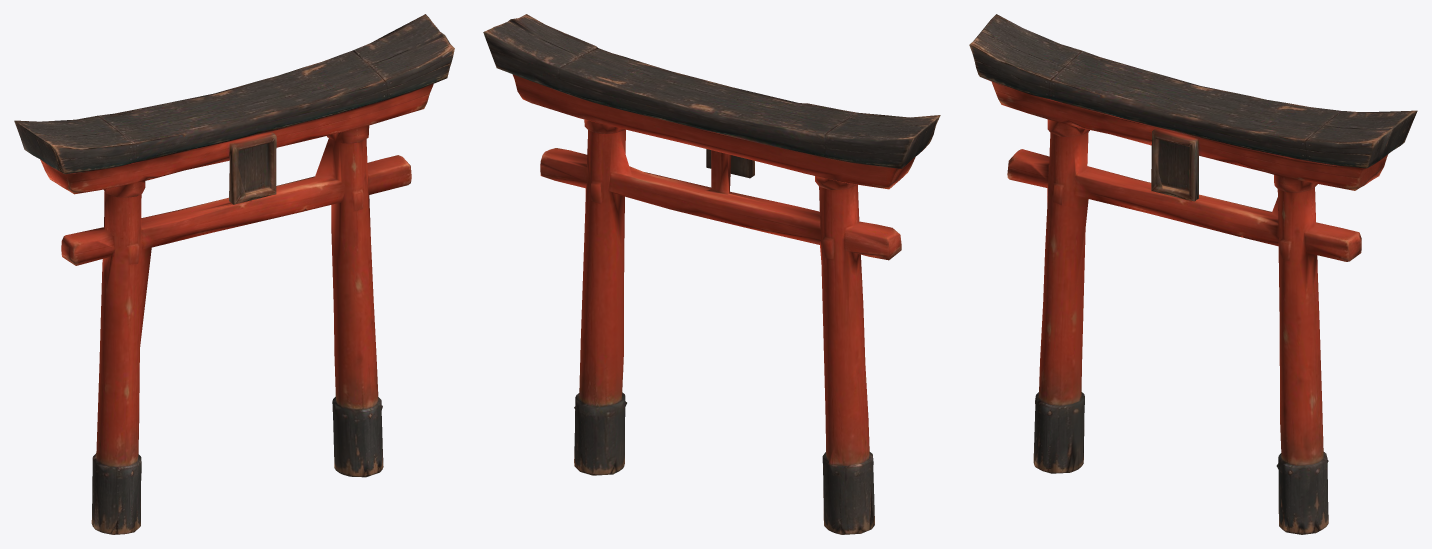
File: torii.glb
3 views of the same model, side by side, from view 1: azimuth 30°, elevation 25°; view 2: azimuth 150°, elevation 25°; view 3: azimuth 330°, elevation 25° (orthographic). The views are drawn at different scales.
Visible parts, largest first — view 1: torii; view 2: torii; view 3: torii.
Boxes of the visible parts, x1,y1,x2,y2 form: torii: (14,14,454,534); torii: (483,14,940,534); torii: (969,14,1417,534).
Size of the model in its own units: 3.86 by 3.7 by 0.5928.
Materials: 1 (1 with a texture image).
